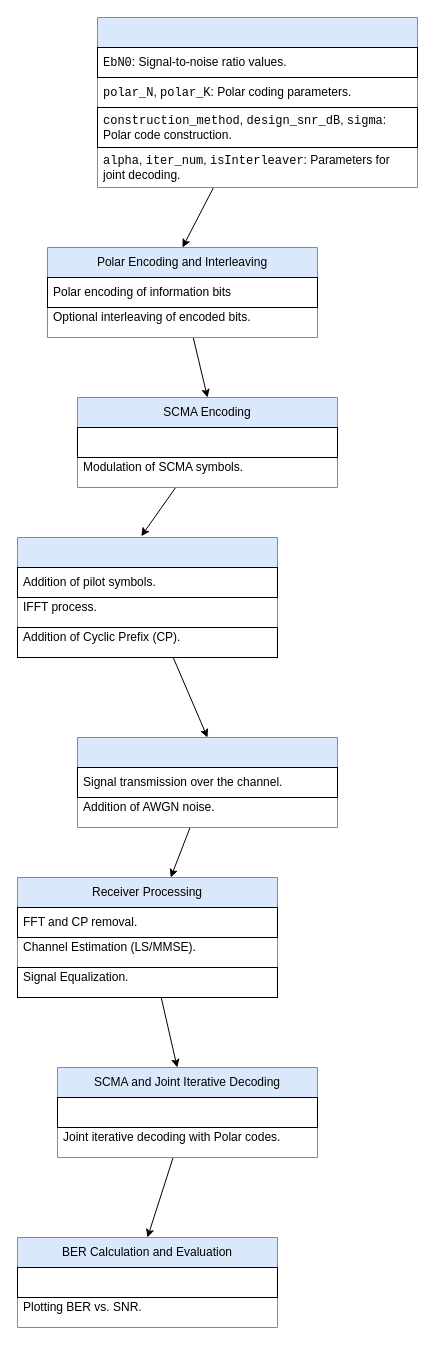
This 435x1345 diagram has some shape labels left out. The box of each missing label's shape, as (x1, y1, x2, y2) in pixels:
Calculation of Bit Error Rate (BER).: (16, 1266, 278, 1298)
Initialization: (96, 16, 418, 188)
Mapping of encoded bits to SCMA symbols.: (76, 426, 338, 458)
OFDM Modulation: (16, 536, 278, 658)
SCMA symbol decoding.: (56, 1096, 318, 1128)
Transmission over AWGN Channel: (76, 736, 338, 828)
